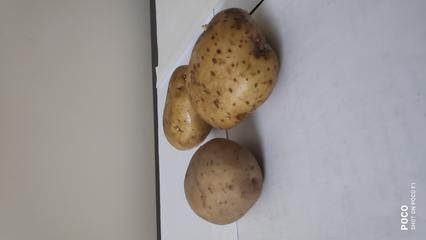potato: (187, 7, 287, 133), (184, 138, 267, 229)
